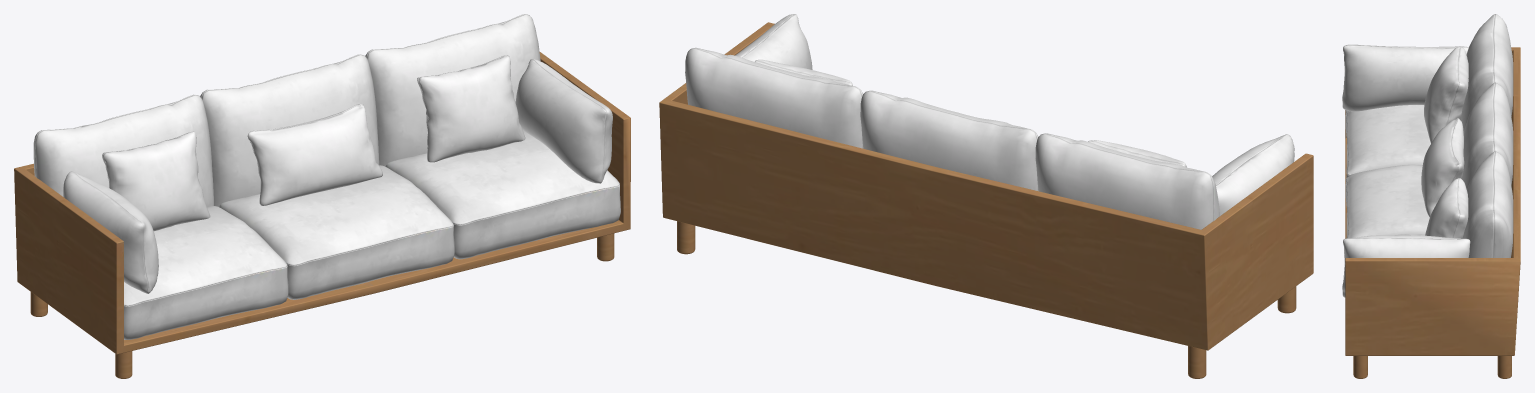
File: 4faac4b8-cc88-4ff2-b7fd-a7edf46d3518.glb
3 renders of one model, left to right at view 1: azimuth 30°, elevation 25°; view 2: azimuth 150°, elevation 25°; view 3: azimuth 270°, elevation 25°, orthographic. The views are drawn at different scales.
Visible parts, largest first — view 1: Leather Sofa; view 2: Leather Sofa; view 3: Leather Sofa.
Part boxes in pixels (<box>): Leather Sofa: <box>14,14,630,378</box>; Leather Sofa: <box>659,14,1313,378</box>; Leather Sofa: <box>1342,14,1520,378</box>.
Bounding box in the file's own units: 2.87 × 1.01 × 1.01.
Materials: 1 (1 with a texture image).
